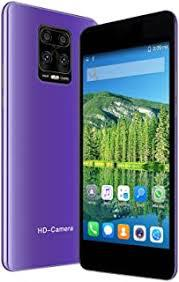Smartphone: (82, 10, 176, 268), (6, 5, 93, 266)
